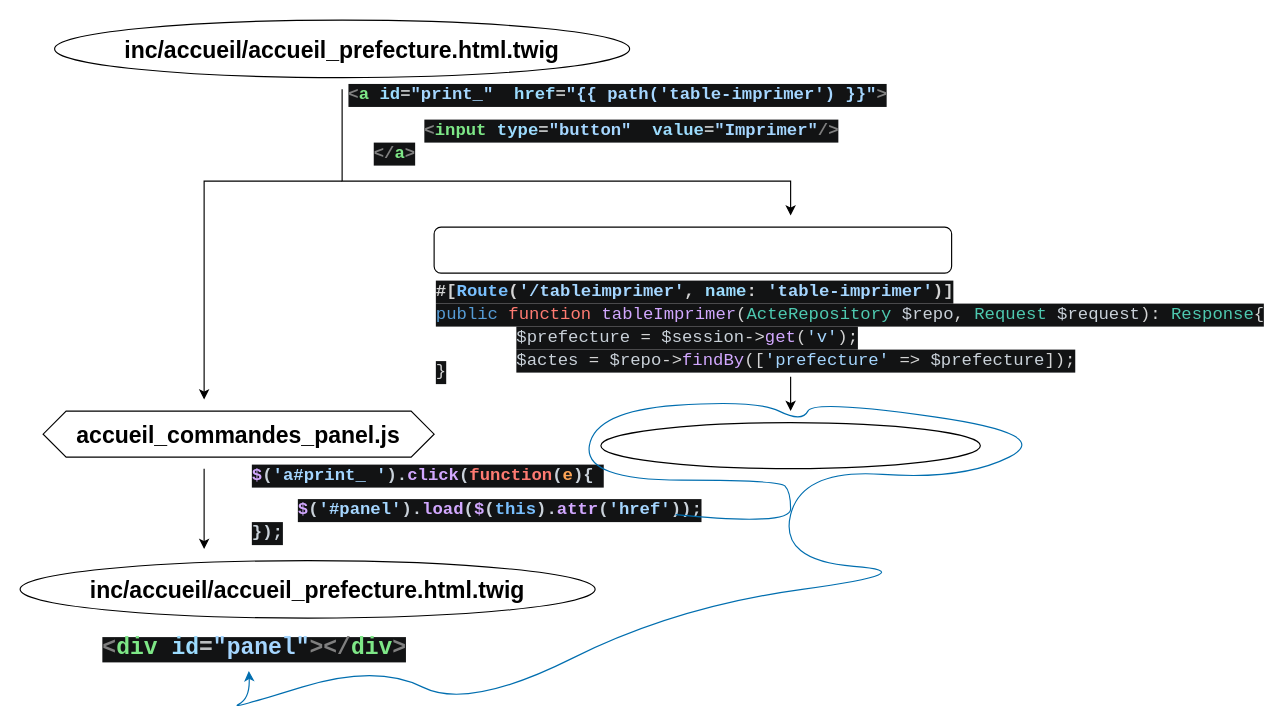
Some shapes in this 1285 by 726 pixel diagram are drawn without their labels. Here are the shapes that lost their labels. From the top down, the centre of each, then its label:
At pixel 692 249: "ActeController.php".
At pixel 790 445: "acte/table_imprimer_acte.html.twig".
